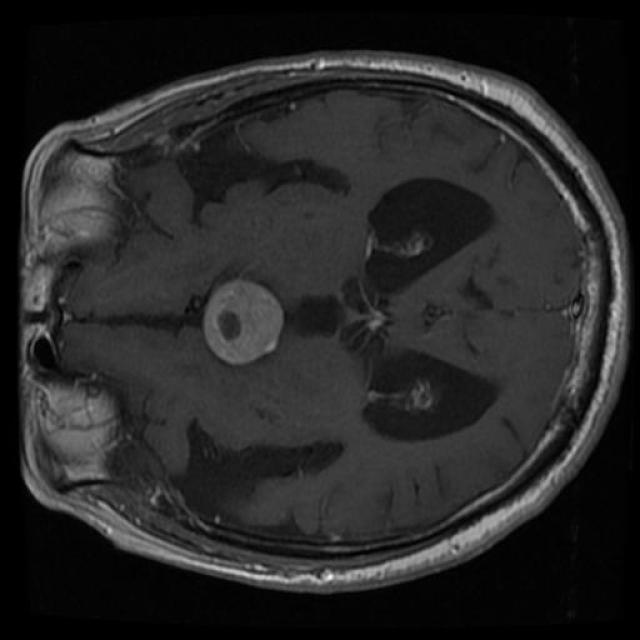Pituitary: (202, 278, 283, 365)
